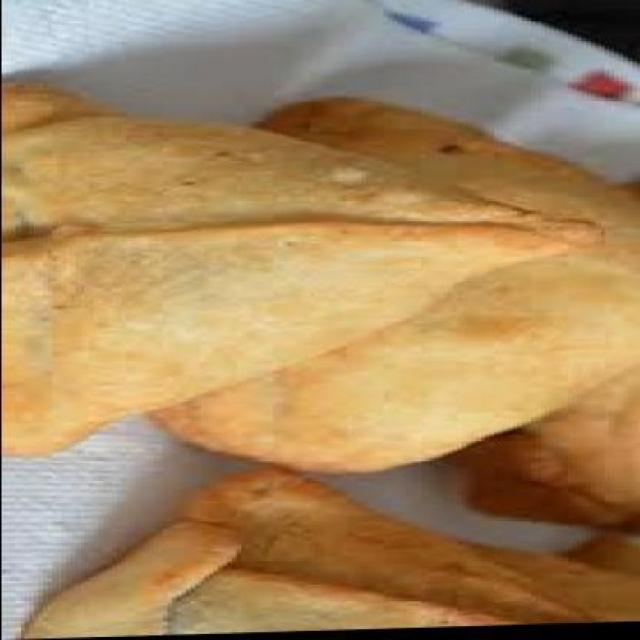samosa: (0, 69, 603, 457), (149, 92, 640, 478), (21, 461, 640, 640)
